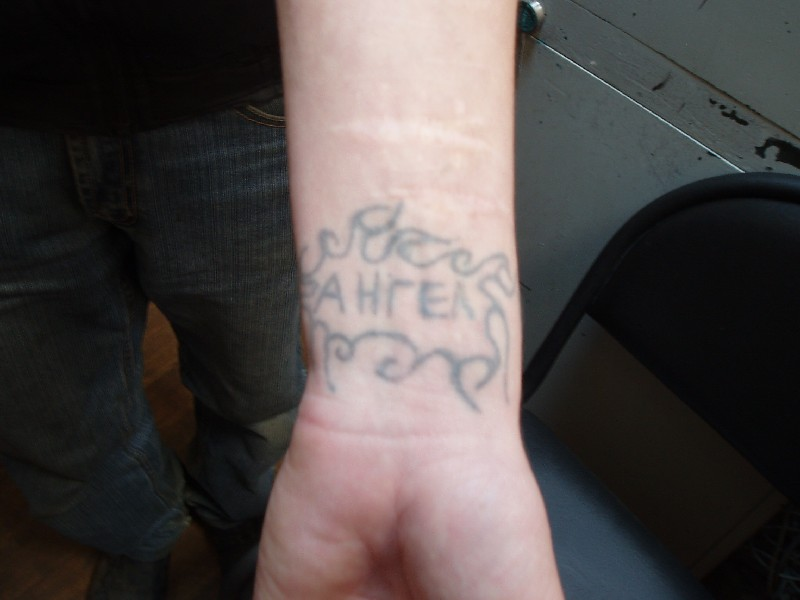tatu3_bukva: (308, 259, 482, 329)
